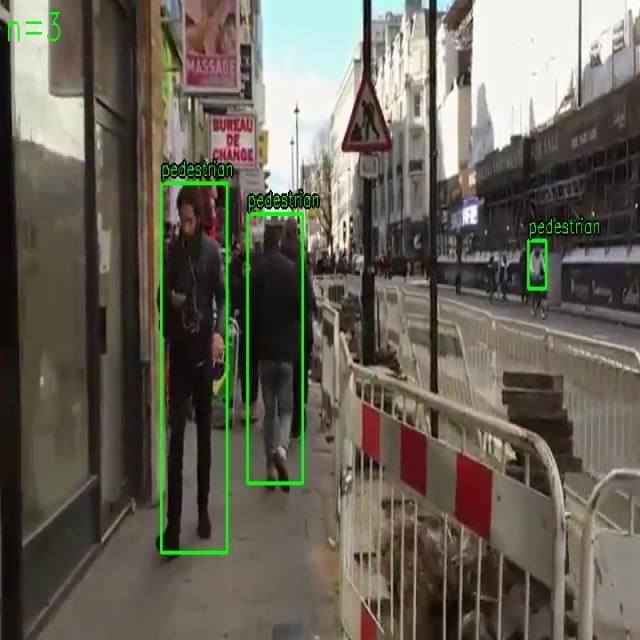person: (161, 182, 227, 554), (247, 213, 303, 484), (528, 240, 547, 290)
